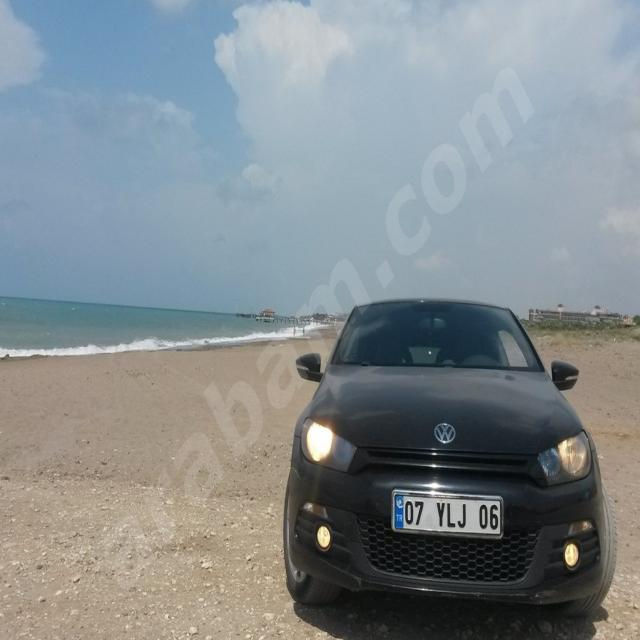license_plate: (393, 493, 501, 535)
